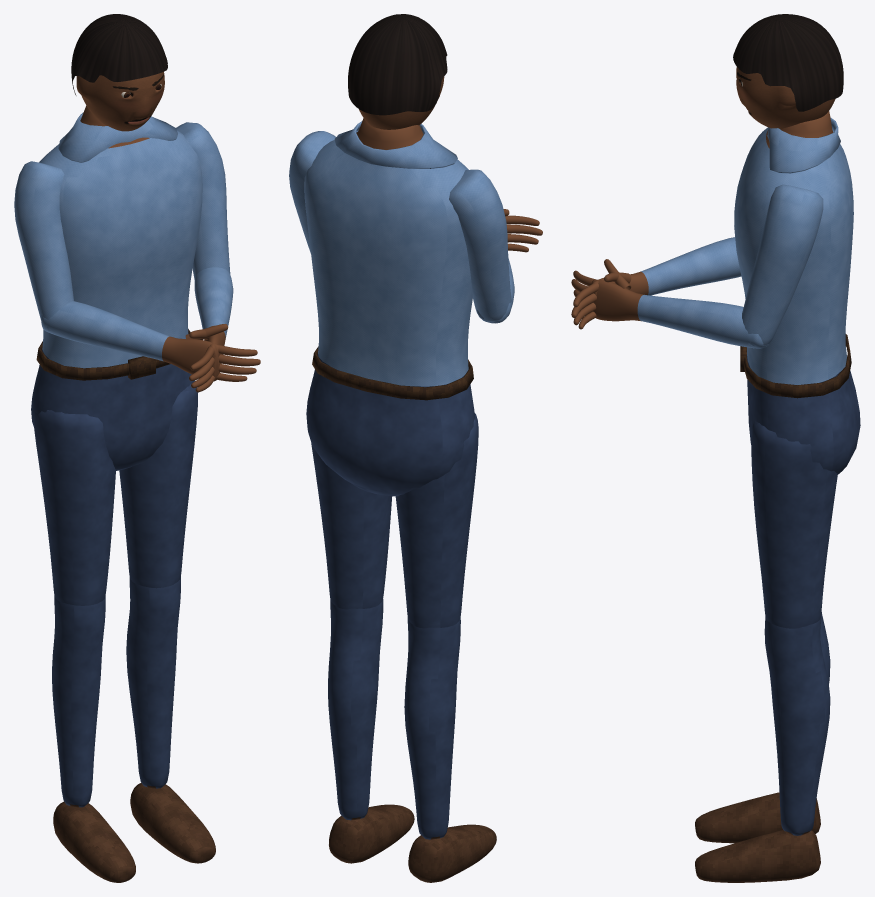
The model's file is persona_hombre_b.obj.
3 renders of one model, left to right at view 1: azimuth 30°, elevation 25°; view 2: azimuth 150°, elevation 25°; view 3: azimuth 270°, elevation 25°, orthographic. The views are drawn at different scales.
Visible parts, largest first — view 1: Torso, PiernaIzq, PiernaDer, MusloDer, MusloIzq, AntebrazoDer, BrazoDer, Pelo, BrazoIzq, Cabeza, AntebrazoIzq, Cuello (+1 smaller); view 2: Torso, PiernaDer, PiernaIzq, MusloDer, MusloIzq, Pelo, BrazoDer, Cuello, Cinturon, BrazoIzq, AntebrazoIzq, Cabeza; view 3: Torso, PiernaIzq, MusloIzq, BrazoIzq, Pelo, AntebrazoIzq, AntebrazoDer, PiernaDer, Cabeza, Cuello, Cinturon.
Boxes of the visible parts, box(x1,y1,x2,y2) form: Torso: box(31, 105, 202, 470); PiernaIzq: box(126, 577, 215, 863); PiernaDer: box(52, 595, 135, 882); MusloDer: box(34, 410, 115, 605); MusloIzq: box(119, 380, 198, 588); AntebrazoDer: box(41, 301, 260, 381); BrazoDer: box(14, 161, 73, 331); Pelo: box(71, 14, 167, 95); BrazoIzq: box(175, 122, 230, 280); Cabeza: box(76, 72, 164, 131); AntebrazoIzq: box(189, 267, 233, 392); Cuello: box(58, 112, 177, 162); Torso: box(304, 118, 475, 496); PiernaDer: box(404, 617, 496, 882); PiernaIzq: box(328, 599, 414, 863); MusloDer: box(395, 413, 478, 628); MusloIzq: box(311, 443, 392, 609); Pelo: box(348, 14, 447, 115); BrazoDer: box(449, 169, 511, 322); Cuello: box(334, 121, 457, 168); Cinturon: box(312, 346, 473, 400); BrazoIzq: box(289, 131, 335, 253); AntebrazoIzq: box(503, 209, 542, 252); Cabeza: box(359, 76, 444, 129); Torso: box(734, 111, 860, 474); PiernaIzq: box(695, 617, 830, 882); MusloIzq: box(751, 421, 837, 628); BrazoIzq: box(742, 184, 823, 346); Pelo: box(733, 14, 843, 111); AntebrazoIzq: box(571, 259, 770, 348); AntebrazoDer: box(571, 237, 741, 329); PiernaDer: box(695, 612, 830, 843); Cabeza: box(736, 67, 835, 128); Cuello: box(767, 117, 840, 173); Cinturon: box(740, 334, 851, 398).
Bounding box in the file's own units: 0.4488 × 1.74 × 0.5408.
Materials: 12 (12 with a texture image).
